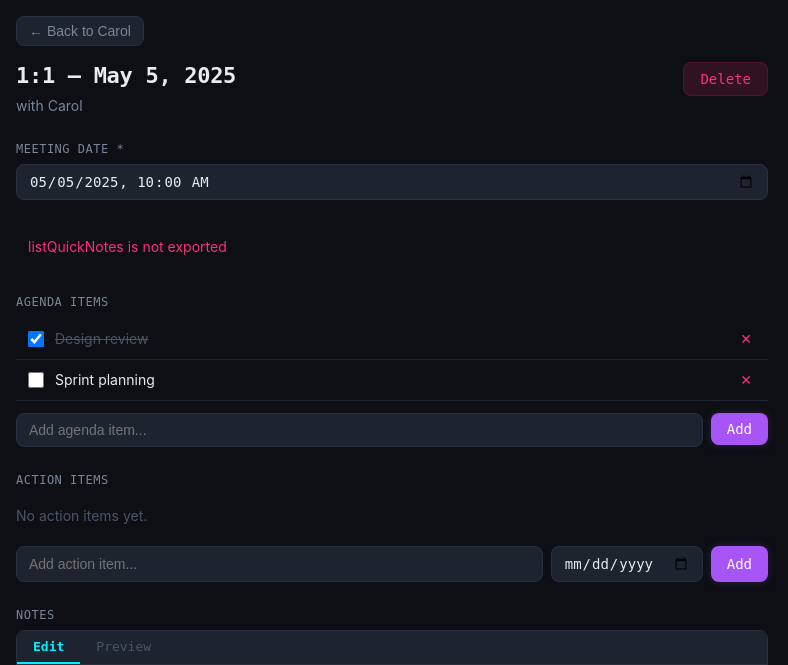
Test: OneOnOneEntryDetailPage › should show delete confirmation when delete button is clicked
Click the button with test id "delete-entry-button" at (726, 79), box [683, 62, 768, 96]
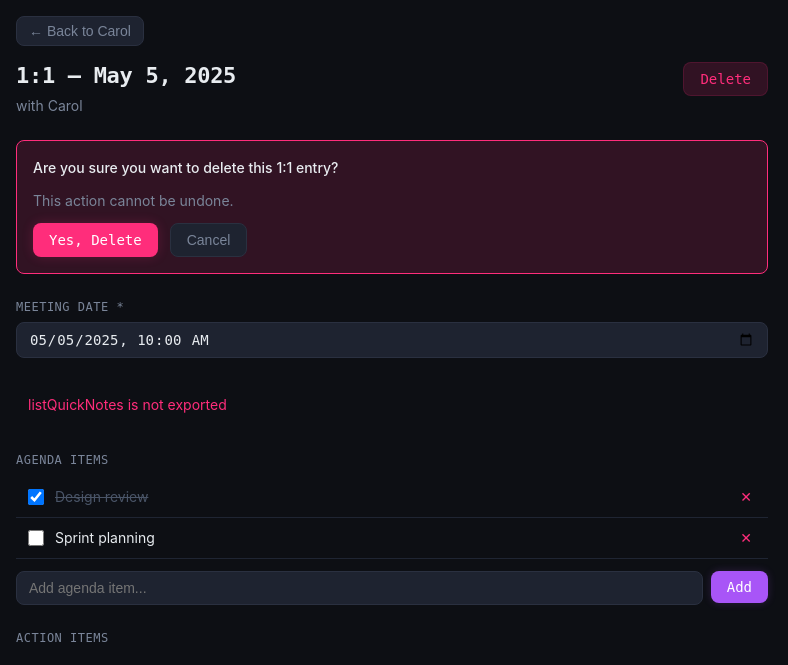
Result: the element with test id "delete-entry-confirmation" is shown at [16, 140, 768, 274]
Result: the text "Are you sure you want to delete this 1:1 entry?" is shown at [33, 159, 338, 176]
Result: the button with test id "confirm-delete-entry-button" is shown at [33, 223, 158, 257]
